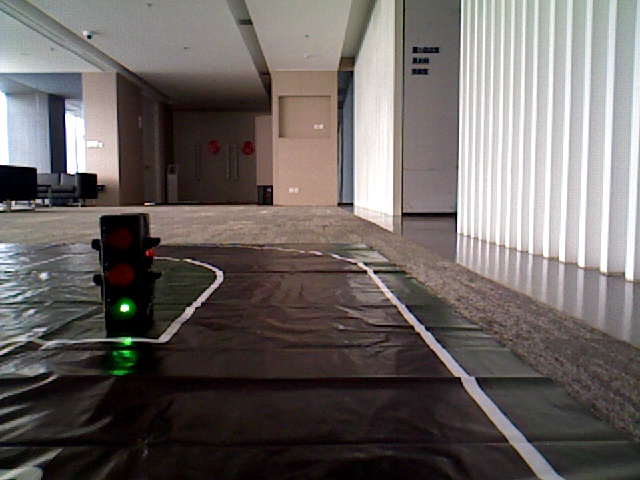green: (105, 216, 156, 333)
